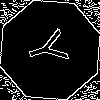Y: (25, 25, 79, 71)
